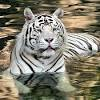Tigre: (11, 6, 98, 90)
